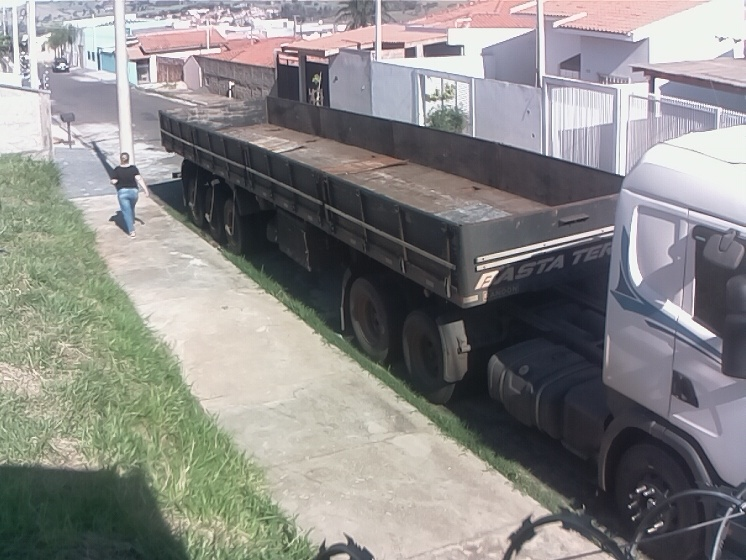person: (108, 150, 154, 241)
